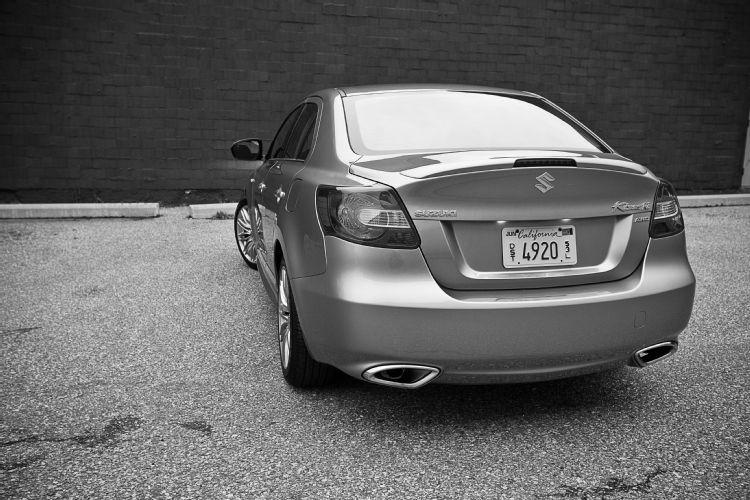car: (232, 86, 697, 378)
